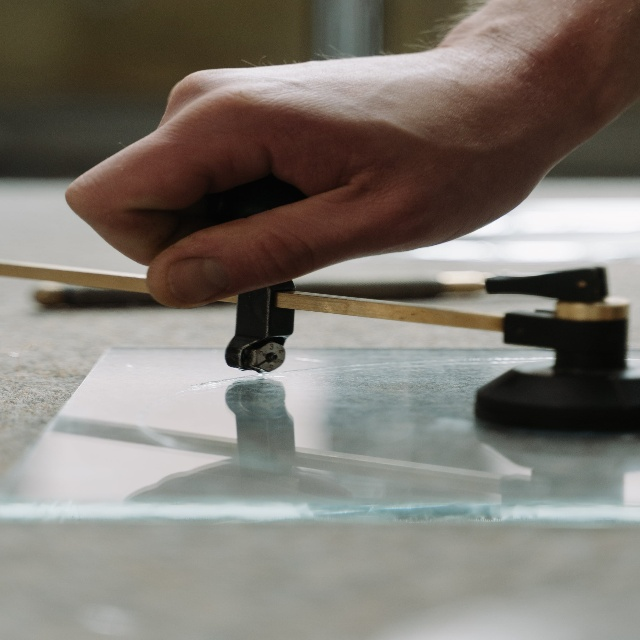Sin_guantes: (65, 48, 545, 310)
